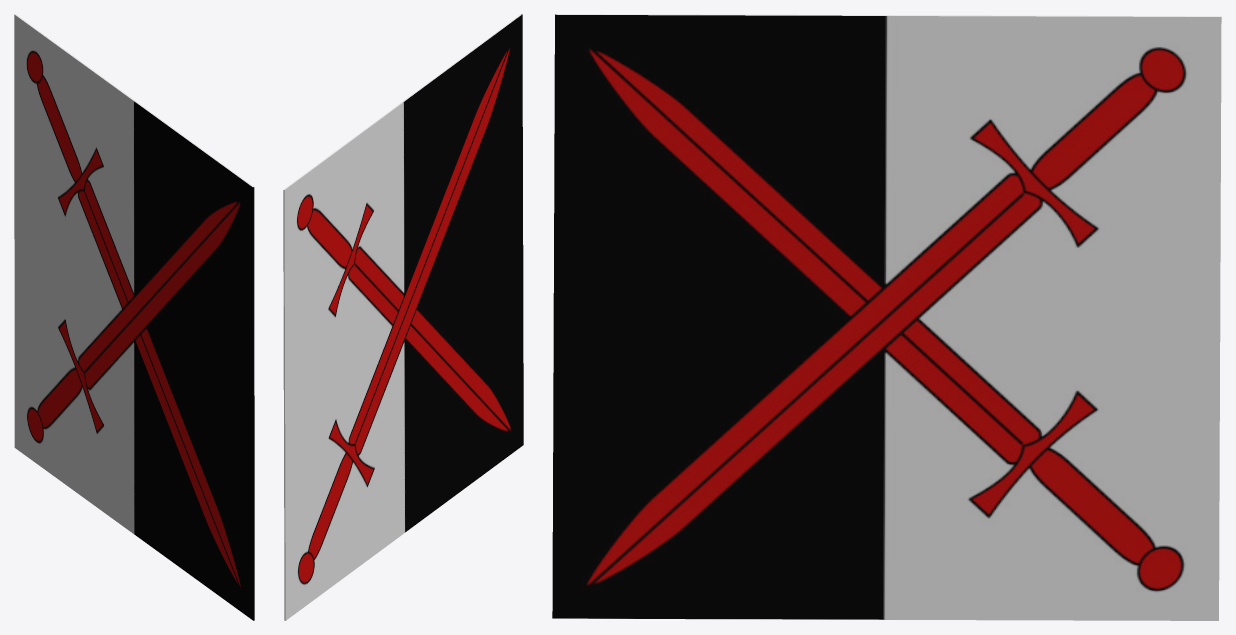
File: flag_square.fbx
The picture shows the model from 3 angles, left to right: view 1: azimuth 30°, elevation 25°; view 2: azimuth 150°, elevation 25°; view 3: azimuth 270°, elevation 25°; orthographic projection. The views are drawn at different scales.
Parts seen in each view (by area): view 1: Cube; view 2: Cube; view 3: Cube.
Boxes of the visible parts, x1=… form: Cube: x1=14, y1=14, x2=254, y2=620; Cube: x1=283, y1=14, x2=523, y2=620; Cube: x1=552, y1=14, x2=1221, y2=620.
Bounding box in the file's own units: 0.7525 × 201 × 201.
